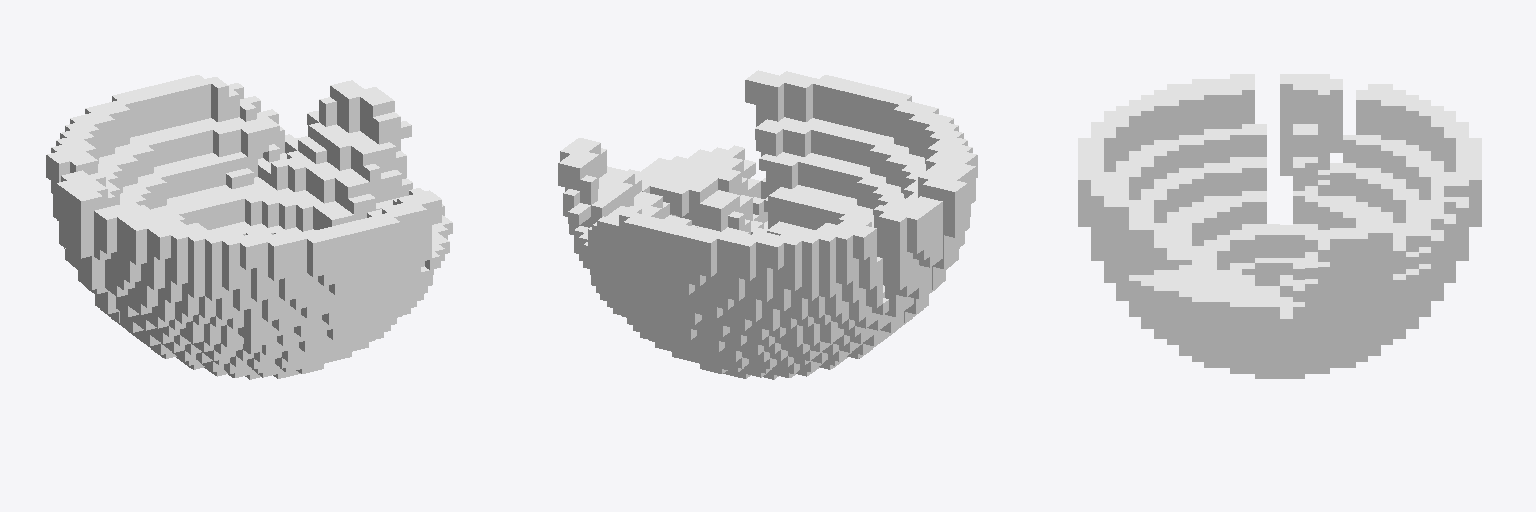
Rendered from bowl_Cracked.obj.
3 renders of one model, left to right at view 1: azimuth 30°, elevation 25°; view 2: azimuth 150°, elevation 25°; view 3: azimuth 270°, elevation 25°, orthographic.
Parts seen in each view (by area): view 1: object 1; view 2: object 1; view 3: object 1.
Part boxes in pixels (x1,y1,x2,y2): object 1: (46,75,452,379); object 1: (558,70,977,379); object 1: (1078,74,1481,378).
Size of the model in its own units: 3.2 by 1.7 by 3.2.